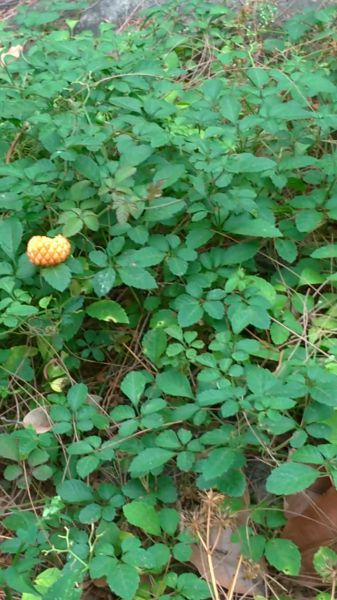eggs: (24, 224, 75, 272)
